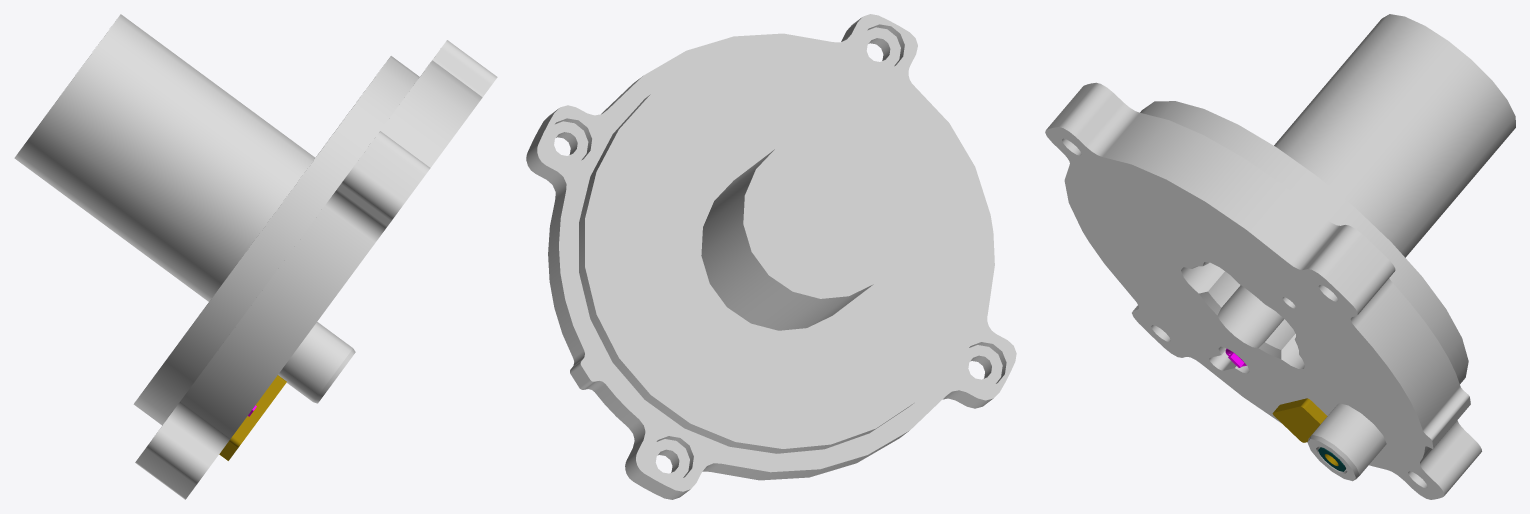
Rendered from robl_link_7.dae.
3 renders of one model, left to right at view 1: azimuth 30°, elevation 25°; view 2: azimuth 150°, elevation 25°; view 3: azimuth 270°, elevation 25°, orthographic. The views are drawn at different scales.
Parts seen in each view (by area): view 1: Link7 (×2); view 2: Link7; view 3: Link7 (×2).
Boxes of the visible parts, x1,y1,x2,y2 form: Link7 (×2): (14,14,497,499); Link7: (526,14,1016,499); Link7 (×2): (1045,14,1515,499).
Size of the model in its own units: 0.0557 by 0.0543 by 0.052.
